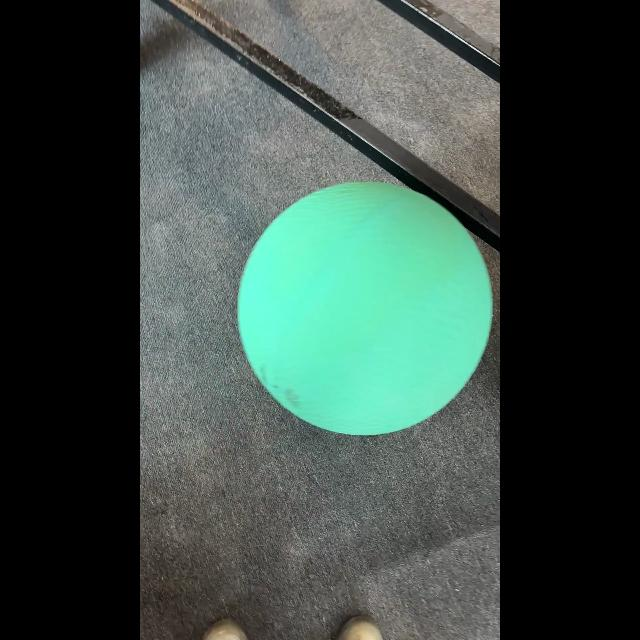ALGAE: (235, 180, 492, 436)
